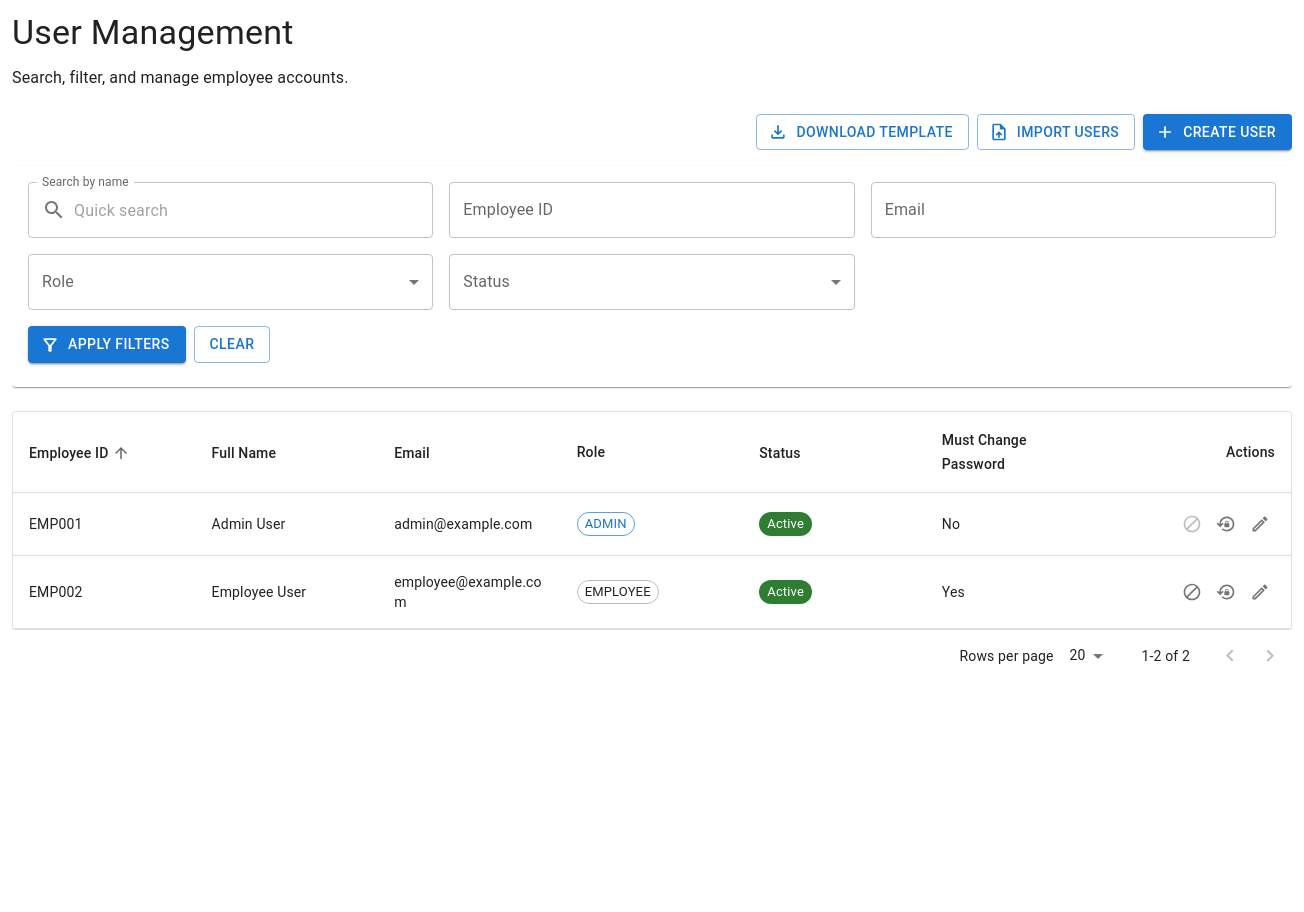
Test: UserListPage › downloads the import template from the toolbar
Expected: the text "Admin User" is shown, top-left (212, 516), bottom-right (286, 532)
Click the button "Download Template".
click(863, 132)  # box top-left (756, 114), bottom-right (969, 150)
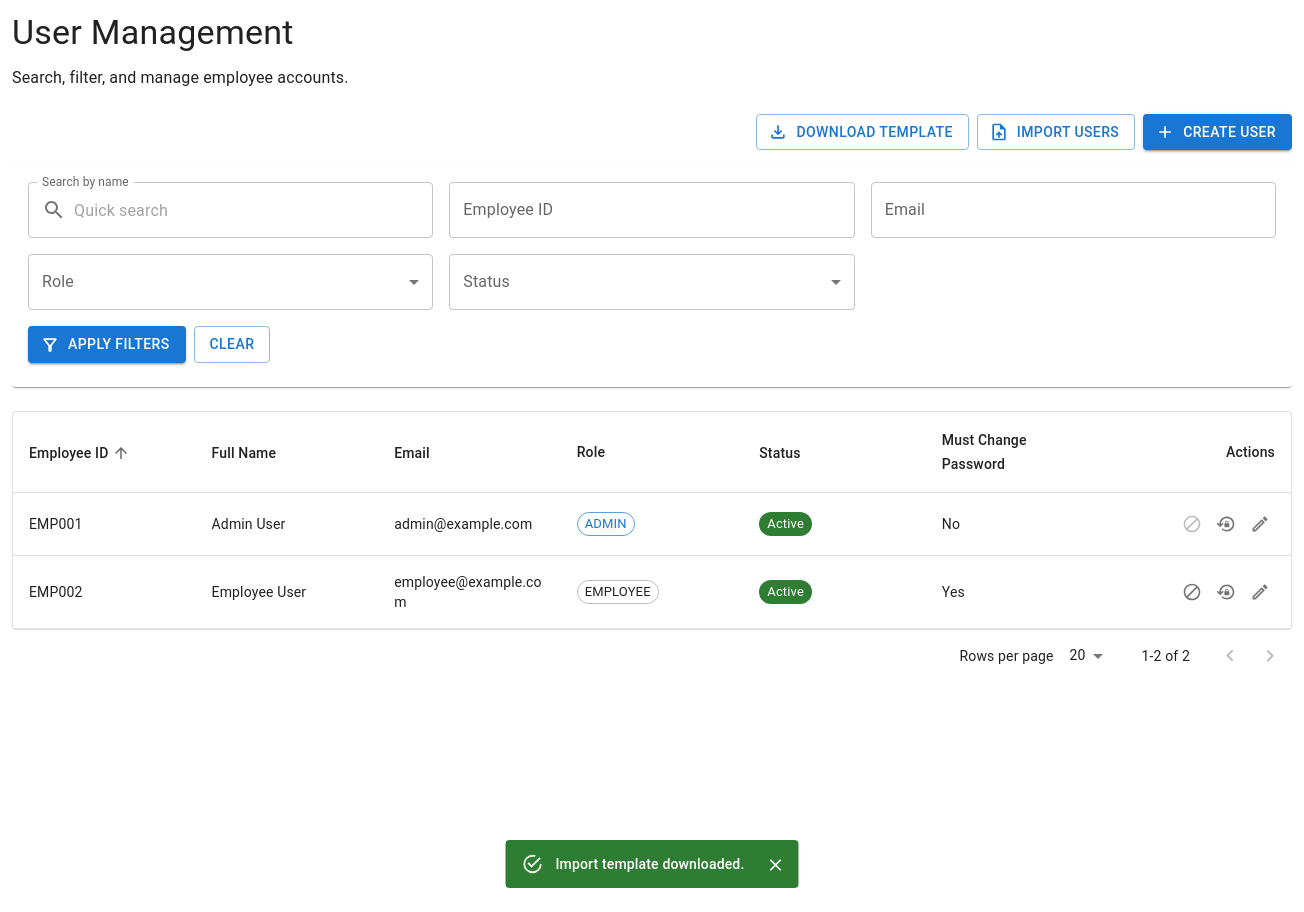
Result: the text "Import template downloaded." is shown at top-left (556, 856), bottom-right (744, 872)
